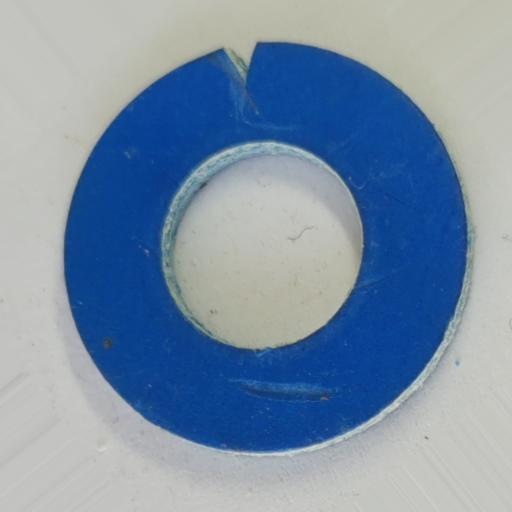defect: (230, 377, 340, 404), (223, 42, 261, 117)
